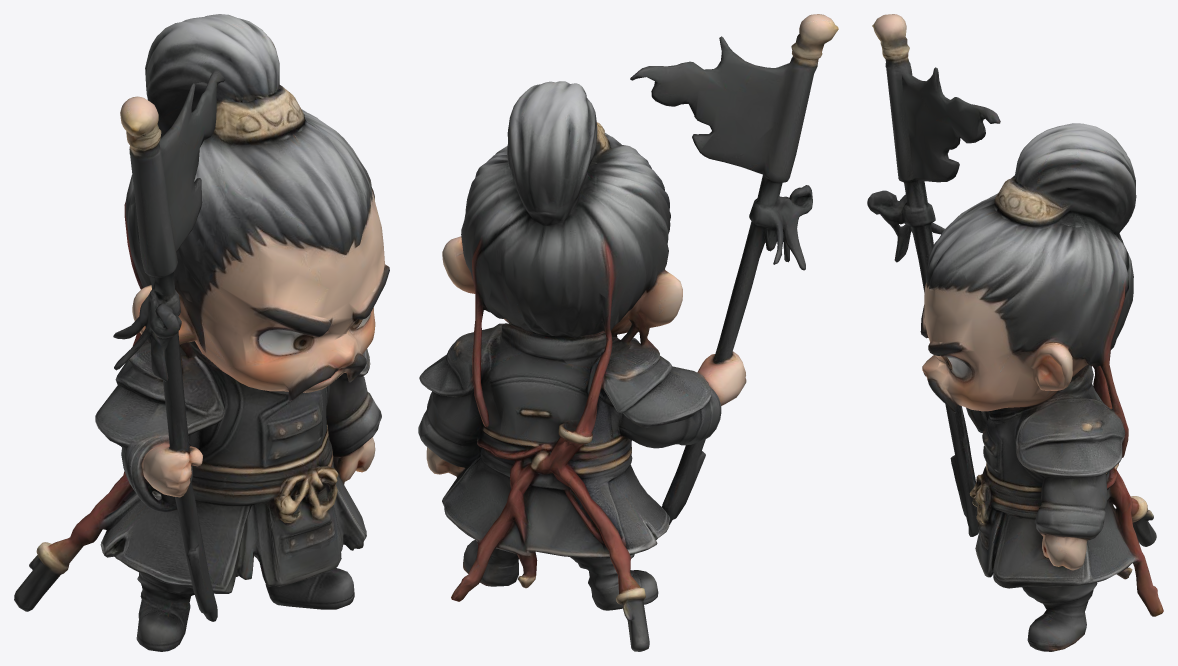
Rendered from flag-bearer.glb.
3 renders of one model, left to right at view 1: azimuth 30°, elevation 25°; view 2: azimuth 150°, elevation 25°; view 3: azimuth 270°, elevation 25°, orthographic. The views are drawn at different scales.
Bounding box in the file's own units: 1.18 × 2 × 1.04.
Materials: 1 (1 with a texture image).
